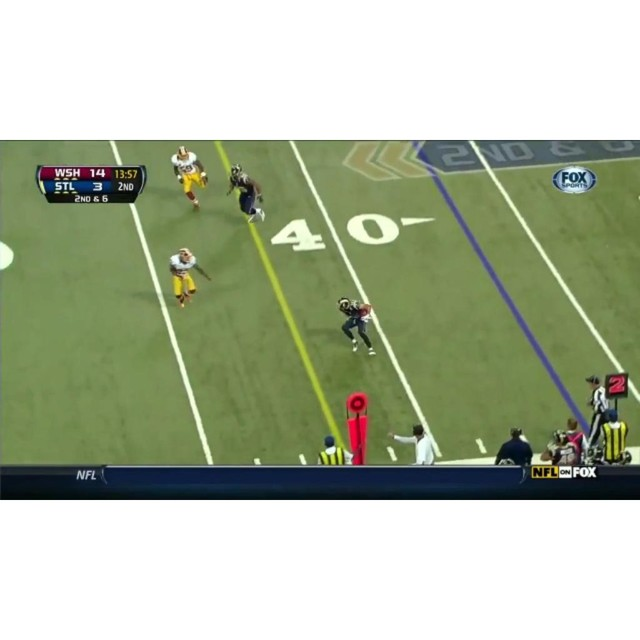american-football-player: (169, 247, 212, 309), (171, 146, 209, 211), (337, 297, 376, 357), (227, 165, 266, 224)
